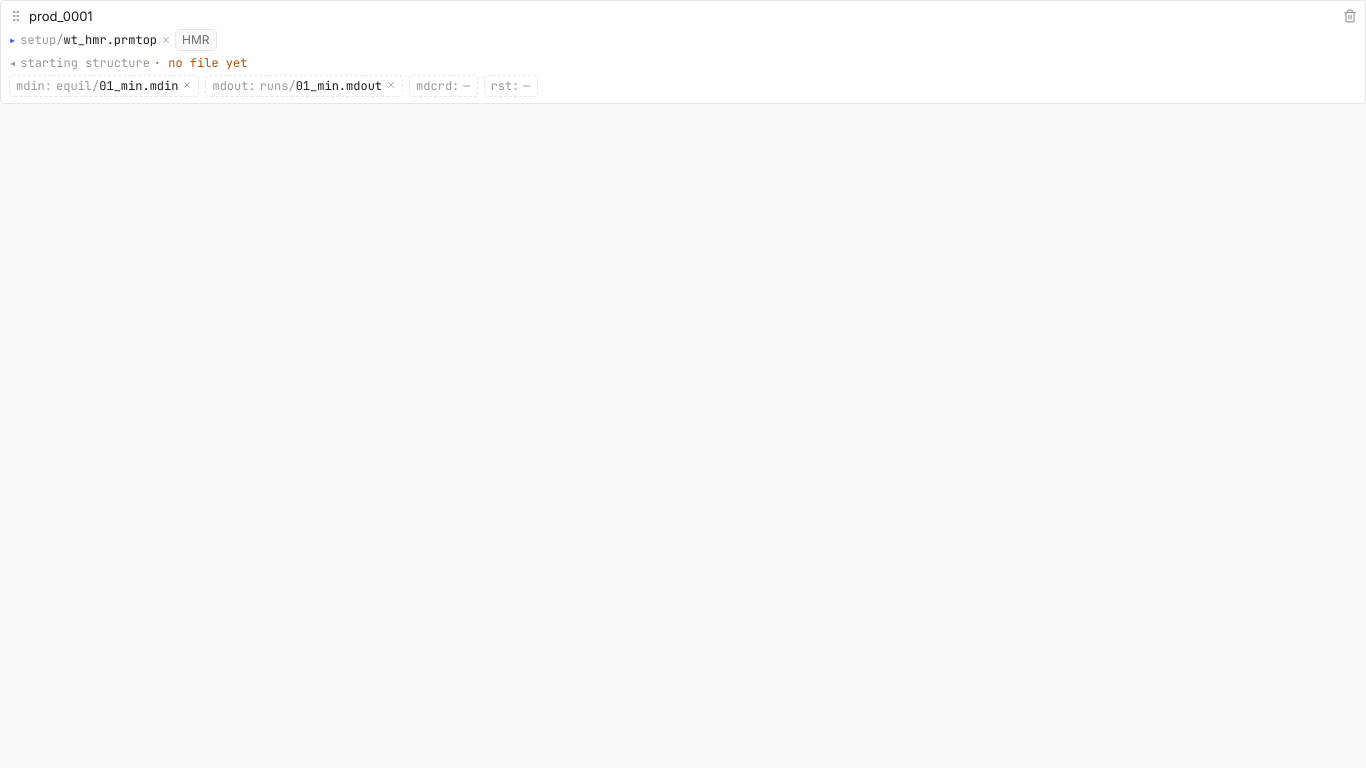
Test: retires the Undo offer as soon as another change lands on the document
Click the button named "delete step prod_0001". click: (1350, 16)
box: 1343,9 -> 1357,23
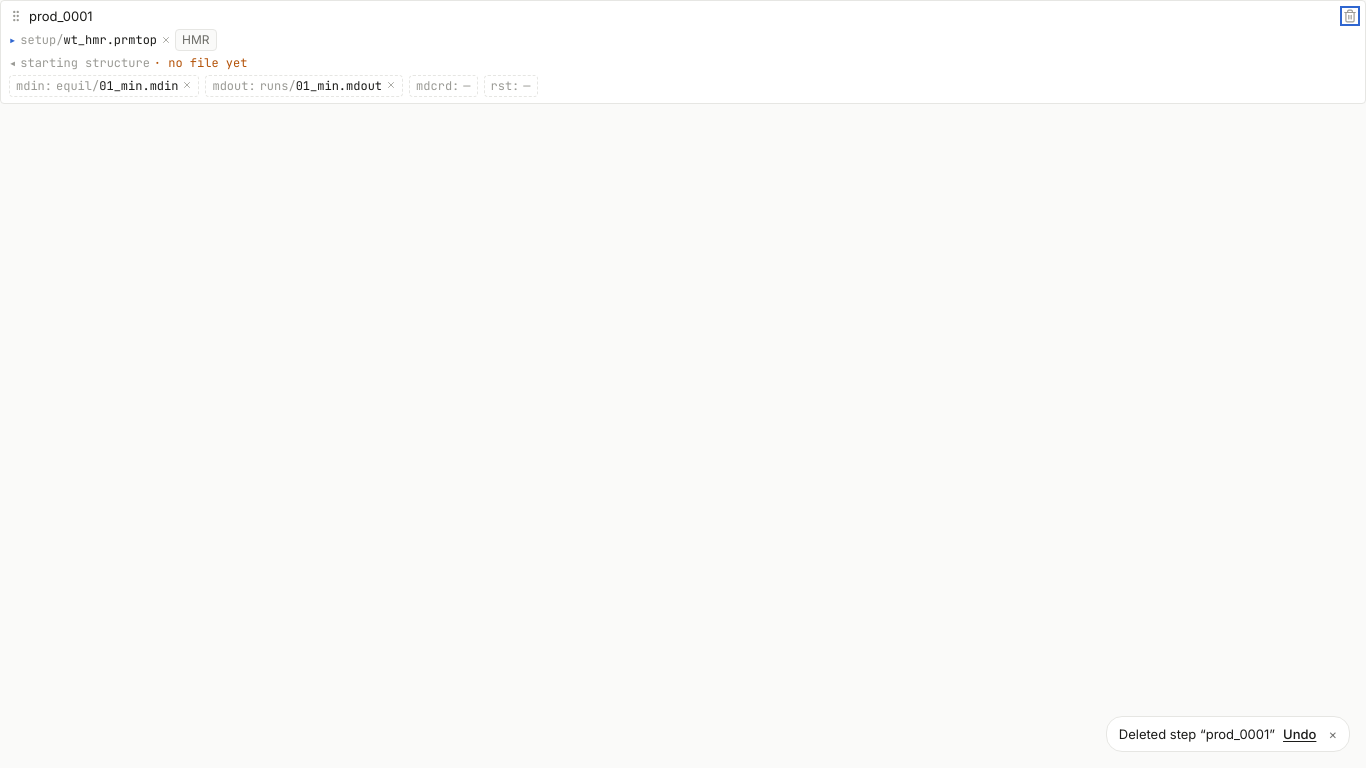
Check: the button "Undo" is shown, box 1283,725 -> 1316,743
Click the button named "clear topology". click: (166, 40)
box: 161,35 -> 171,45
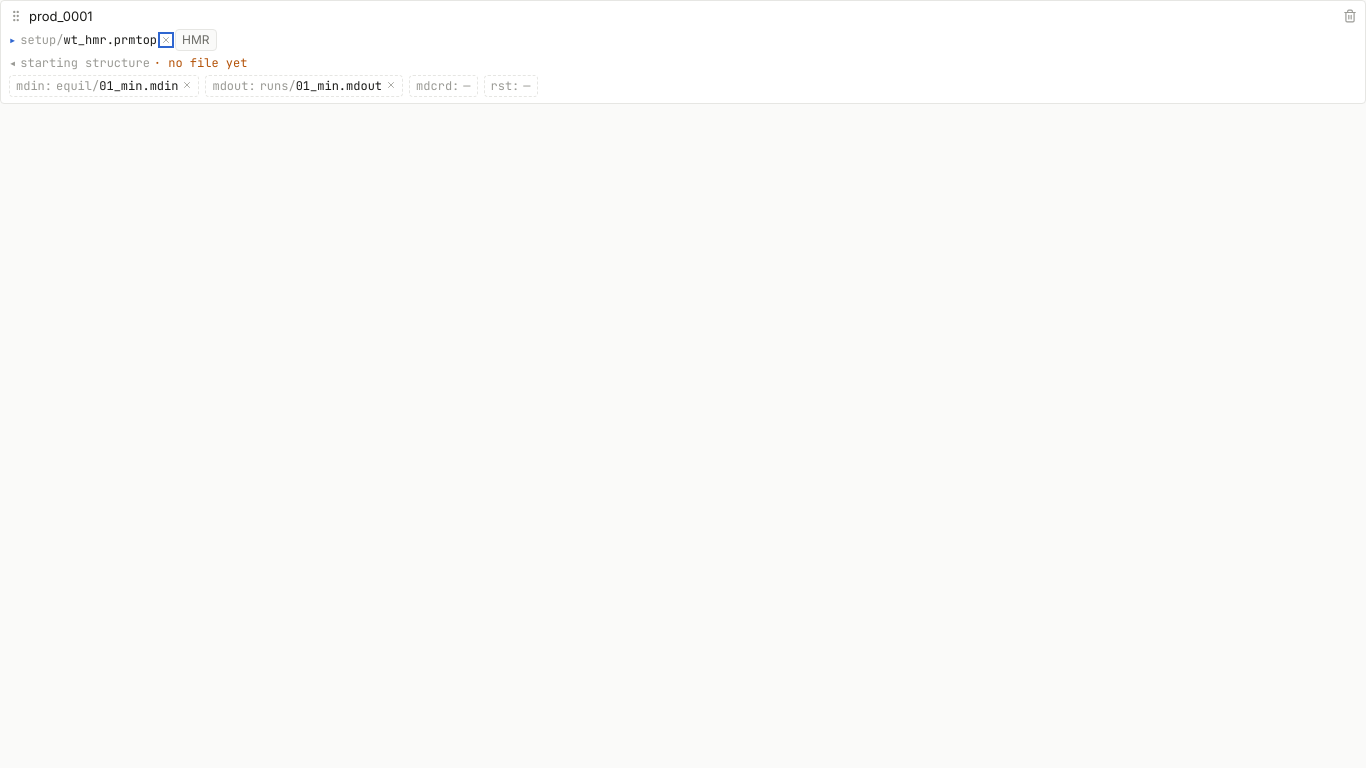
Check: the button "Undo" is gone
